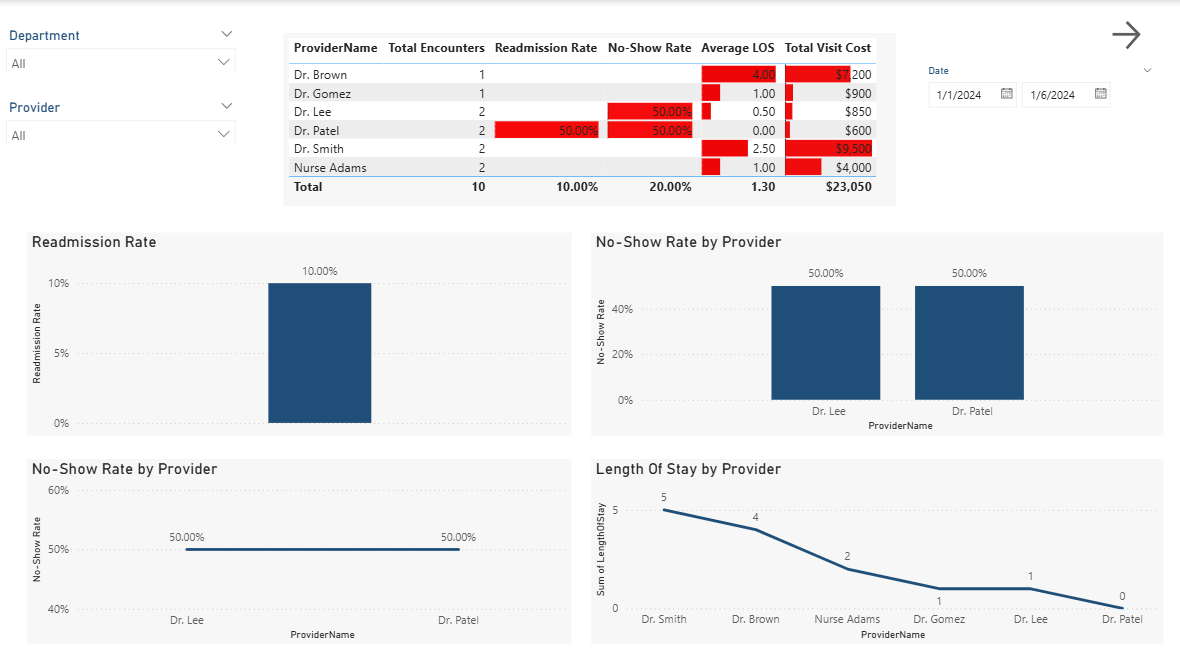

What the dashboard file says about the page in this screenshot:
{"tool":"powerbi","page":{"name":"Provider Performance","canvas":[1280,720],"ordinal":2},"visuals":[{"type":"tableEx","fields":{"Values":["DimProvider.ProviderName","FactEncounter.Total Encounters","FactEncounter.Readmission Rate","FactEncounter.No-Show Rate","FactEncounter.Average LOS","FactEncounter.Total Visit Cost"]},"box":[309.9,35.9,661.4,187.1],"z":0},{"type":"columnChart","fields":{"Y":["FactEncounter.Readmission Rate"]},"box":[32.1,251.3,587.7,219.2],"z":1000},{"type":"columnChart","title":"No-Show Rate by Provider","fields":{"Y":["FactEncounter.No-Show Rate"],"Category":["DimProvider.ProviderName"]},"box":[640.6,251.3,618,219.2],"z":2000},{"type":"lineChart","title":"No-Show Rate by Provider","fields":{"Category":["DimProvider.ProviderName"],"Y":["FactEncounter.No-Show Rate"]},"box":[32.1,495.1,587.7,200.3],"z":3000},{"type":"lineChart","title":"Length Of Stay by Provider","fields":{"Category":["DimProvider.ProviderName"],"Y":["Sum(FactEncounter.LengthOfStay)"]},"box":[641,495,618,200],"z":4000},{"type":"slicer","fields":{"Values":["DimProvider.ProviderName"]},"box":[0,102,267.2,53.4],"z":5000},{"type":"slicer","fields":{"Values":["DimDepartment.DepartmentName"]},"box":[0,24.3,267.2,53.4],"z":6000},{"type":"slicer","fields":{"Values":["DimDate.Date"]},"box":[992.6,64.8,267.2,64.8],"z":7000},{"type":"actionButton","box":[1198.2,17.8,59.9,40.5],"z":8000}]}

Visuals, with their boxes in screenshot pixels (x1, y1, x2, y2), scaled from the page's 1280x720 canvas onto the 1180x664 screenshot:
tableEx - DimProvider.ProviderName x FactEncounter.Total Encounters: crop(286, 33, 895, 206)
columnChart - FactEncounter.Readmission Rate: crop(30, 232, 571, 434)
"No-Show Rate by Provider" columnChart: crop(591, 232, 1160, 434)
"No-Show Rate by Provider" lineChart: crop(30, 457, 571, 641)
"Length Of Stay by Provider" lineChart: crop(591, 456, 1161, 641)
slicer - DimProvider.ProviderName: crop(0, 94, 246, 143)
slicer - DimDepartment.DepartmentName: crop(0, 22, 246, 72)
slicer - DimDate.Date: crop(915, 60, 1161, 120)
actionButton: crop(1105, 16, 1160, 54)
